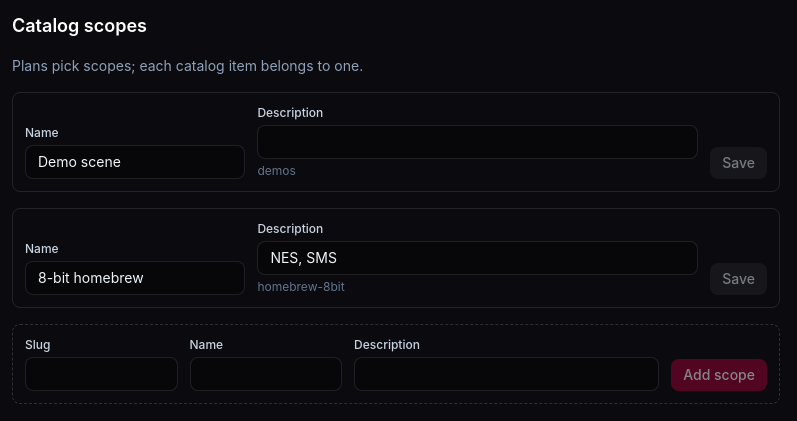
Test: plan editor polish (M8d minors) › a scope-row error shows under the field it names, and a saved scope shows Saved.
Replace the text in the field labelled "Name" next to "demos" with "Demos" at (135, 162), box [25, 145, 245, 179]
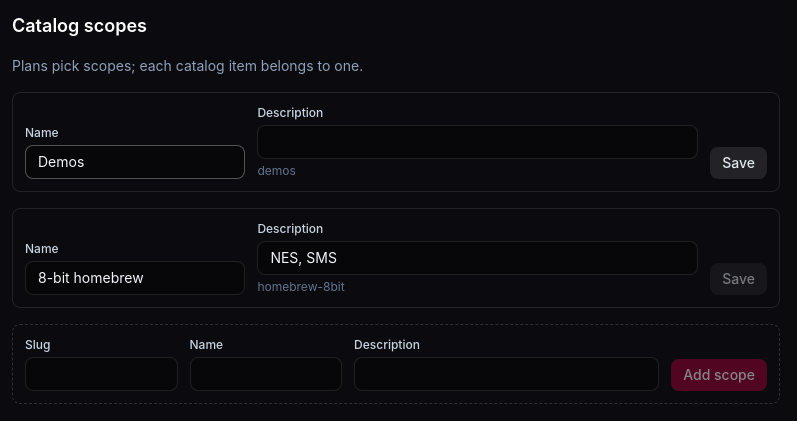
Click the button "Save" in the row of "demos".
click(739, 163)  # box [710, 147, 767, 179]
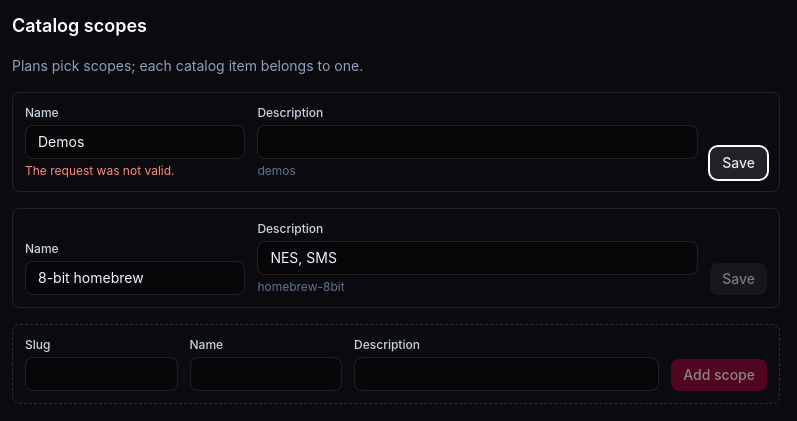
Click the button "Save" in the row of "demos".
click(739, 163)  # box [710, 147, 767, 179]
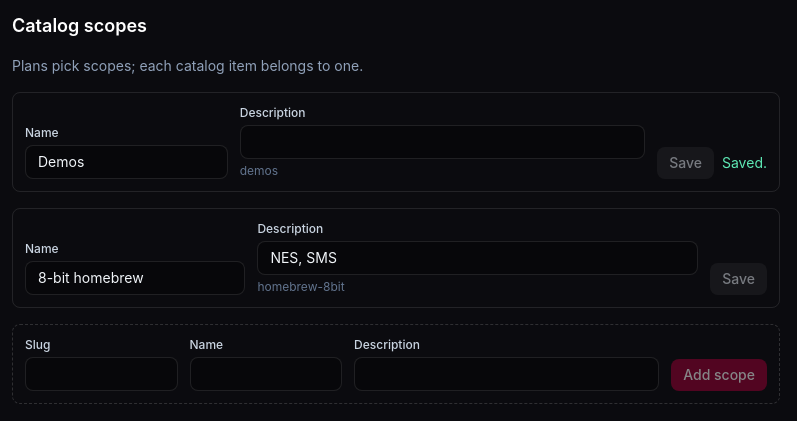
Now the text "Saved." is shown, box [722, 153, 767, 173]
